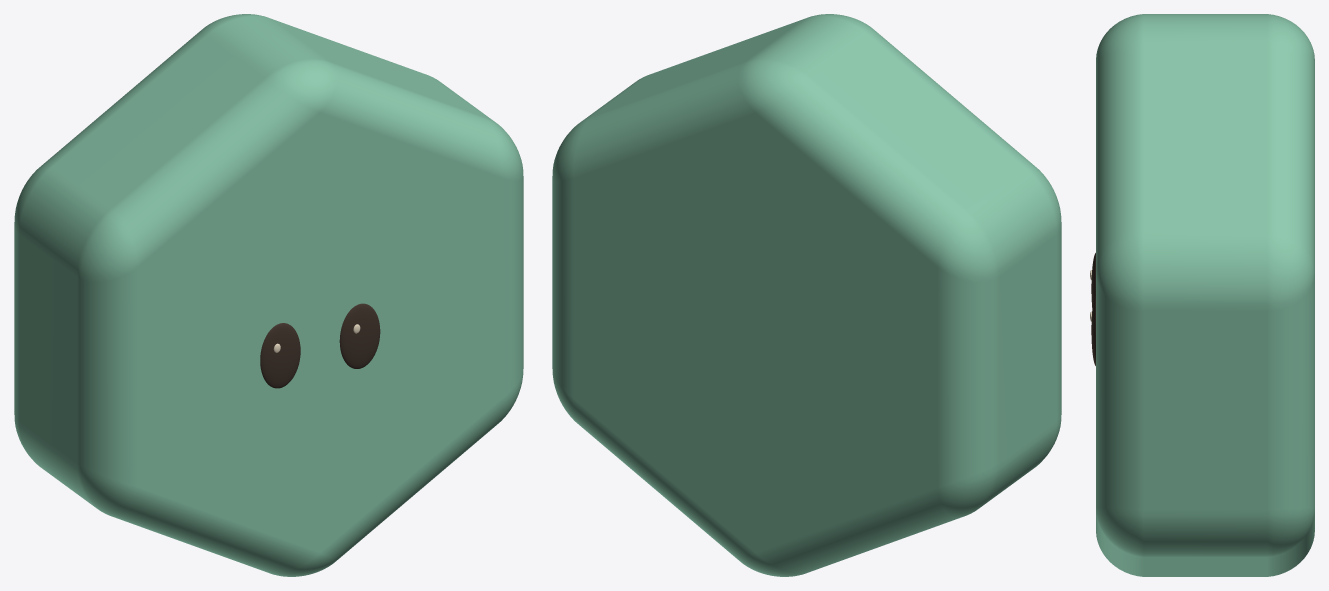
Rendered from hexagon.glb.
The picture shows the model from 3 angles, left to right: view 1: azimuth 30°, elevation 25°; view 2: azimuth 150°, elevation 25°; view 3: azimuth 270°, elevation 25°; orthographic projection. The views are drawn at different scales.
Visible parts, largest first — view 1: Hexagon · brushed metal body, Eye L, Eye R; view 2: Hexagon · brushed metal body; view 3: Hexagon · brushed metal body.
Part boxes in pixels (x1=…): Hexagon · brushed metal body: x1=14, y1=14, x2=523, y2=576; Eye L: x1=260, y1=323, x2=300, y2=388; Eye R: x1=339, y1=303, x2=380, y2=368; Hexagon · brushed metal body: x1=552, y1=14, x2=1061, y2=576; Hexagon · brushed metal body: x1=1096, y1=14, x2=1314, y2=576.
Size of the model in its own units: 1.94 by 2.15 by 0.801.
